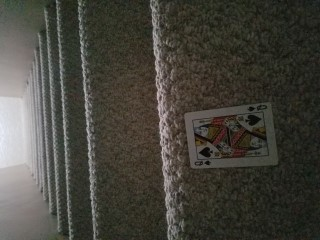QueenOfSpades: (184, 102, 280, 169)
